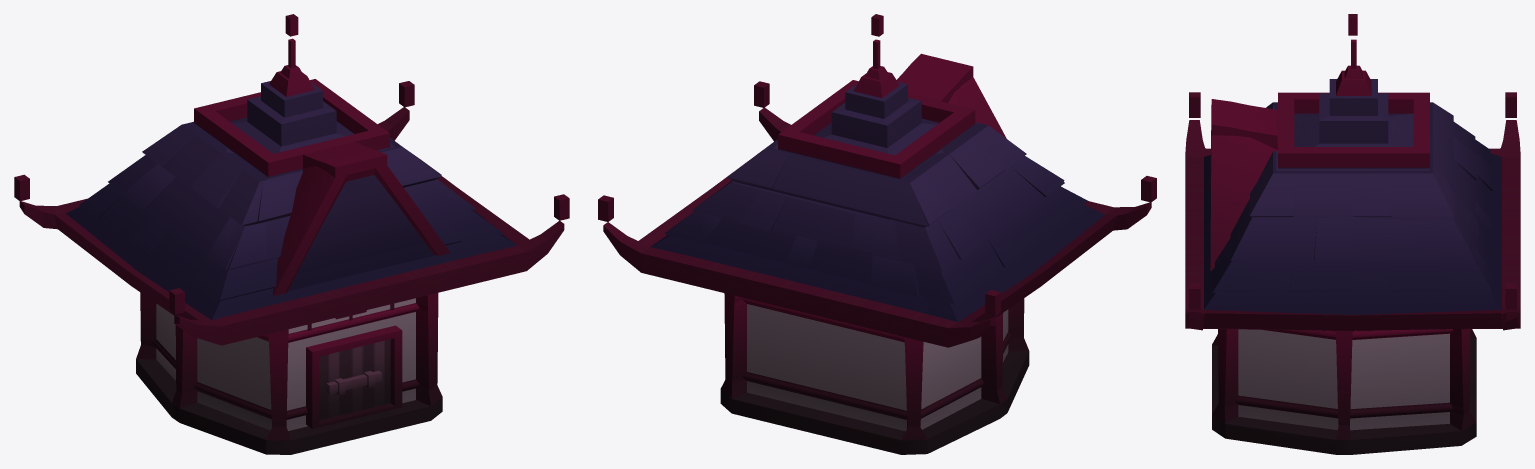
Rendered from Templo.fbx.
3 renders of one model, left to right at view 1: azimuth 30°, elevation 25°; view 2: azimuth 150°, elevation 25°; view 3: azimuth 270°, elevation 25°, orthographic. The views are drawn at different scales.
Visible parts, largest first — view 1: DetalheTemploLado3; view 2: DetalheTemploLado3; view 3: DetalheTemploLado3.
Part boxes in pixels (box(x1,y1,x2,y2)): DetalheTemploLado3: box(14, 14, 569, 454); DetalheTemploLado3: box(598, 14, 1156, 454); DetalheTemploLado3: box(1185, 14, 1520, 454).
Size of the model in its own units: 15.11 by 13.57 by 10.9.
